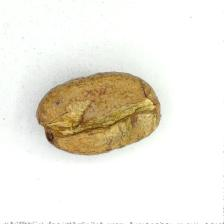NG: (53, 86, 157, 150)
